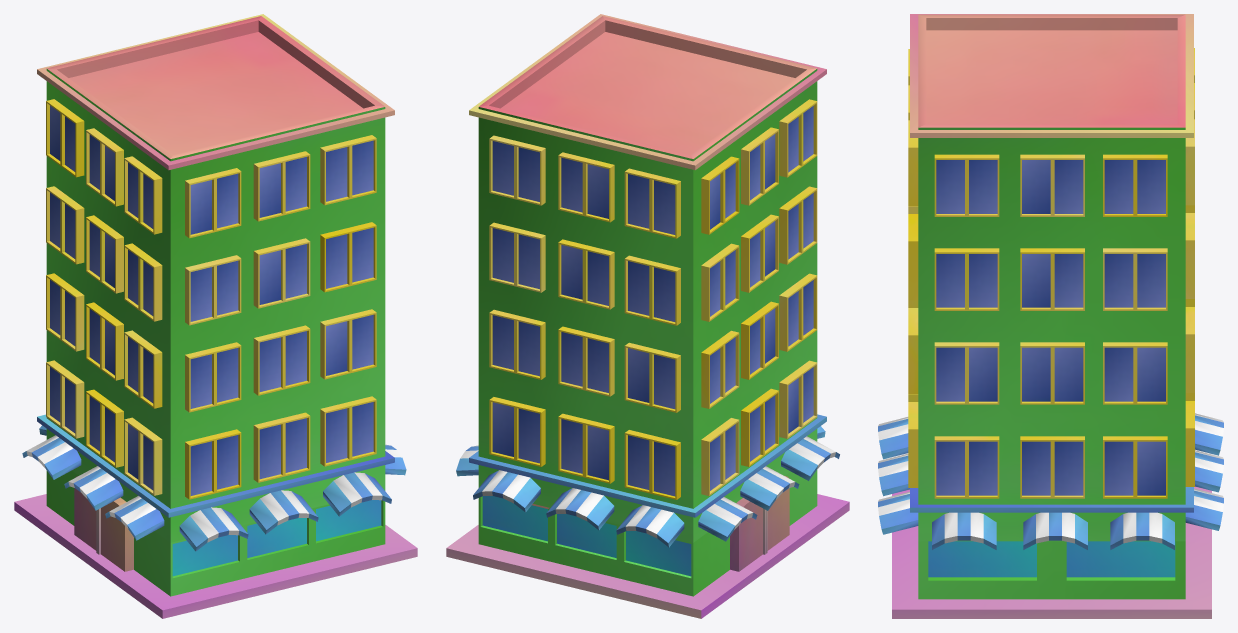
Rendered from House_10.fbx.
3 renders of one model, left to right at view 1: azimuth 30°, elevation 25°; view 2: azimuth 150°, elevation 25°; view 3: azimuth 270°, elevation 25°, orthographic. The views are drawn at different scales.
Visible parts, largest first — view 1: House.10; view 2: House.10; view 3: House.10.
Part boxes in pixels (x1=…): House.10: x1=14, y1=14, x2=417, y2=618; House.10: x1=446, y1=14, x2=849, y2=618; House.10: x1=878, y1=14, x2=1223, y2=618.
Bounding box in the file's own units: 1065 × 1638 × 1068.
Materials: 1 (1 with a texture image).
